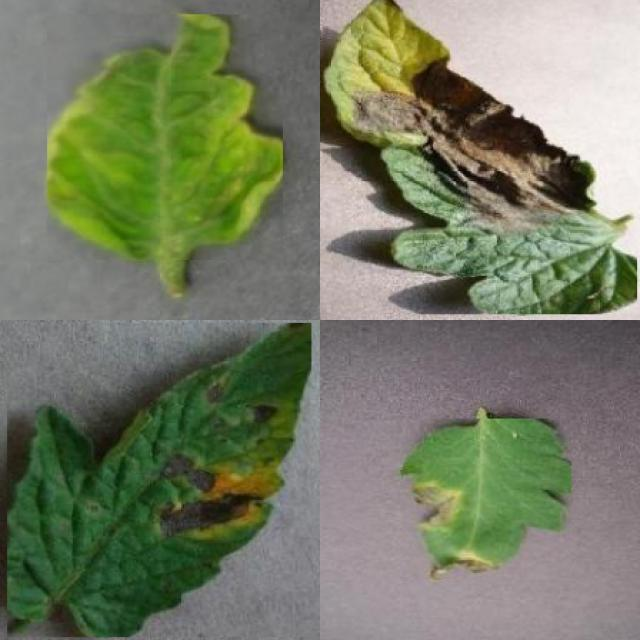Early Blight: (7, 323, 312, 637)
Late Blight: (323, 0, 636, 314), (403, 419, 571, 580)
Yellow Leaf Curl Virus: (47, 14, 283, 260)
